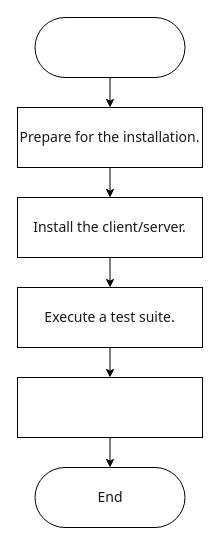
The diagram is 220 pixels wide and 545 high, and some of its shapes have lost their labels. The shapes that lost their labels are listed below. From the top down, each one's centre as x and y in pixels, then its label:
point 109,47: Start
point 109,407: Obtain results and suggestions.
